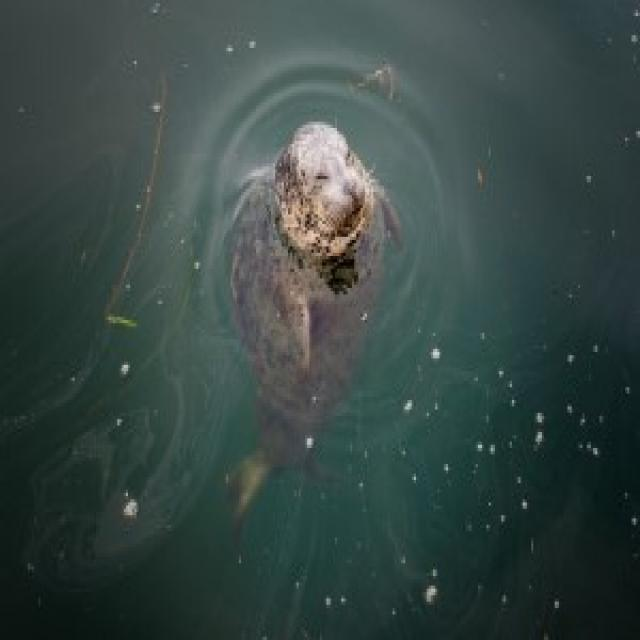Seal: (211, 113, 396, 504)
